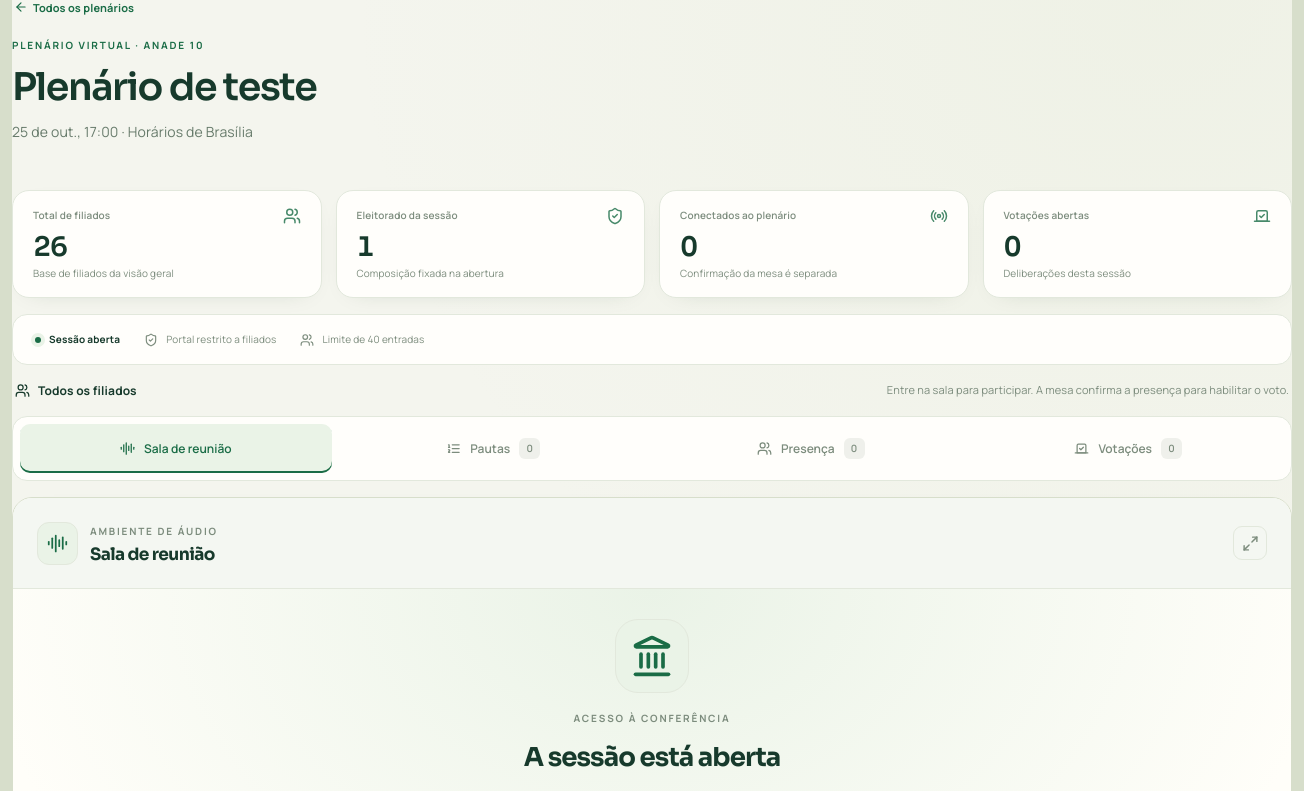
lista inclui filiados ainda não conectados, pagina e permite busca nominal
Click the tab "Presença 0".
click(811, 449)  # box x1=655 y1=424 x2=966 y2=473
(page scrolled)
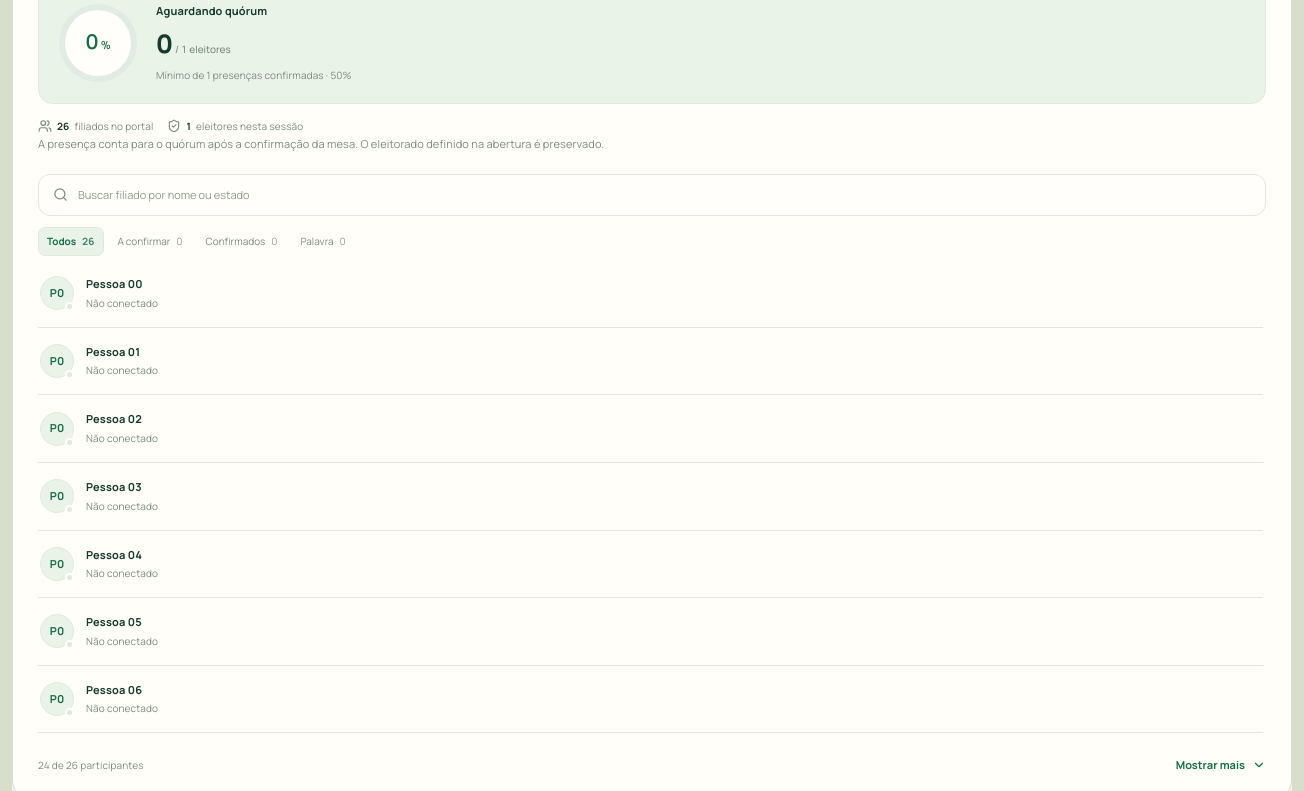
Expected: the text "Não conectado" is shown 24 times
Click the button "Mostrar mais".
click(1221, 765)  # box x1=1176 y1=757 x2=1266 y2=774
(page scrolled)
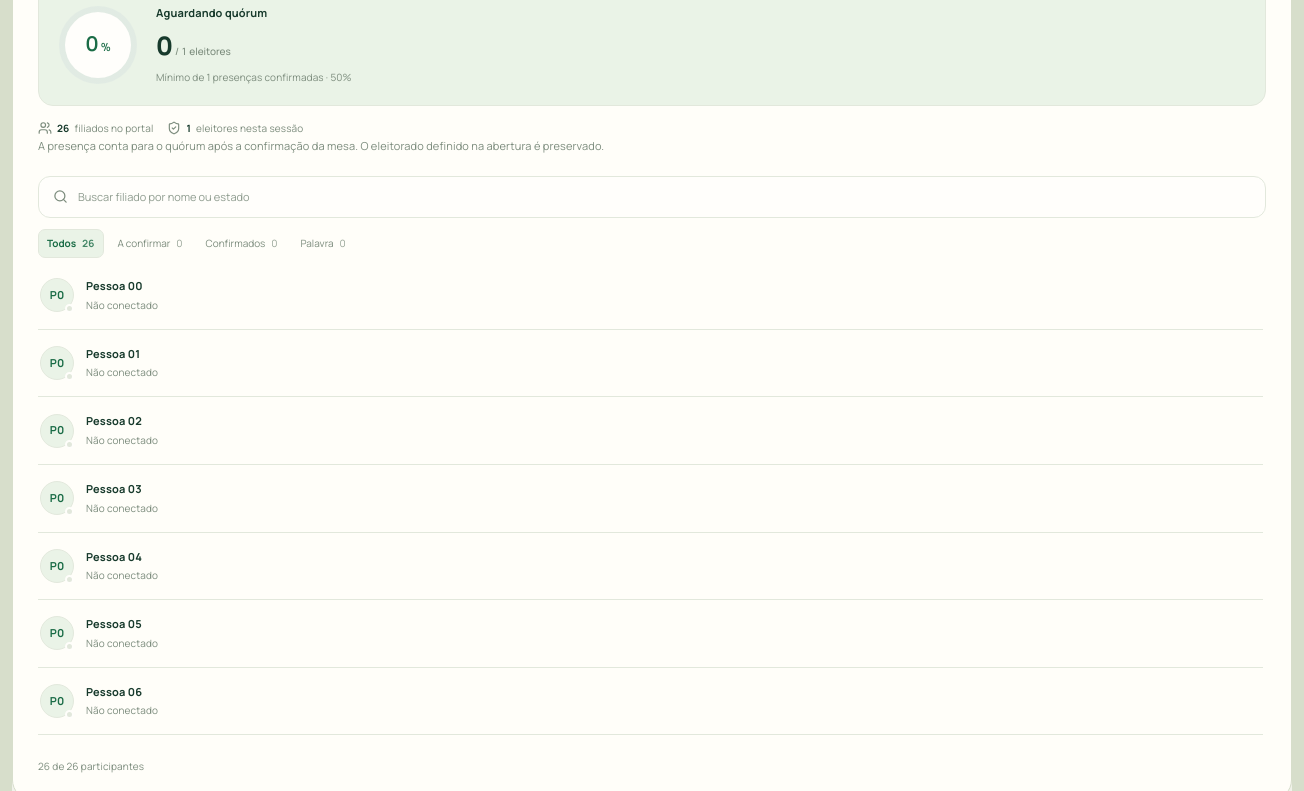
Type "Pessoa 25" into the search field named "Buscar participante".
click(664, 197); type("Pessoa 25")  # box x1=78 y1=189 x2=1251 y2=205
(page scrolled)
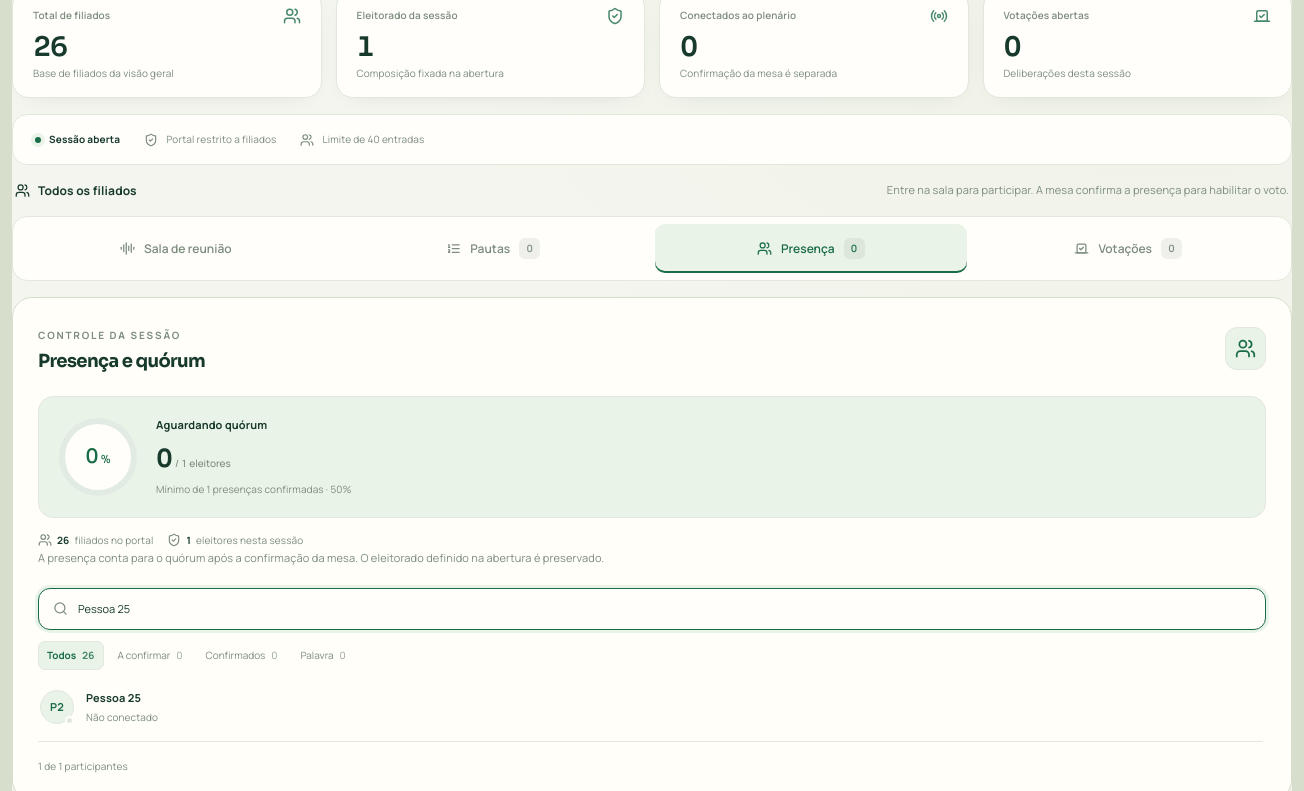
Expected: the text "Pessoa 25" is shown, x1=86 y1=690 x2=141 y2=705
